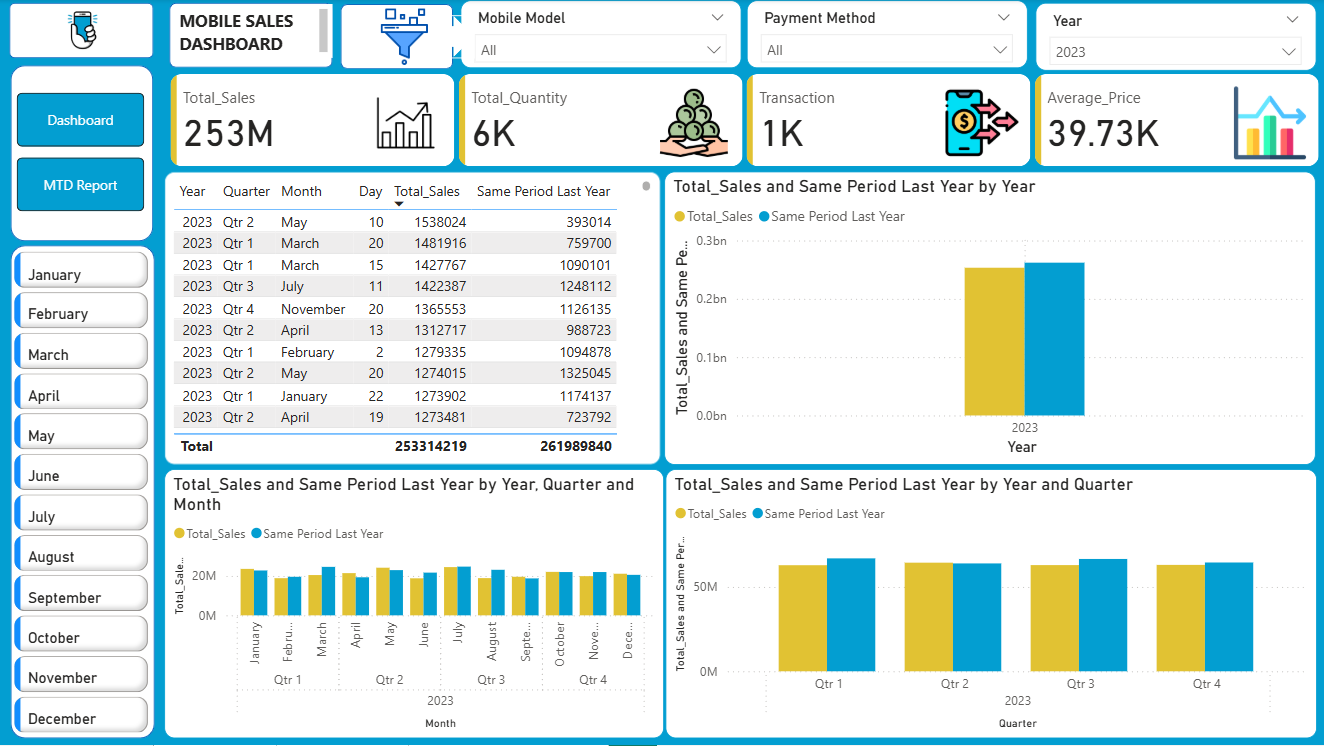

Layout of this report page (visuals, bound fields, positions):
{"tool":"powerbi","page":{"name":"Dashboard","canvas":[1280,720],"ordinal":0},"visuals":[{"type":"shape","box":[10.1,10.1,139.9,51.9],"z":0},{"type":"image","box":[11.3,3.8,137.2,65.4],"z":1000},{"type":"textbox","box":[150,76.8,300,150],"z":2000},{"type":"shape","box":[12.2,67.4,137.8,159.2],"z":3000},{"type":"shape","box":[10.1,232.3,139.9,479],"z":4000},{"type":"advancedSlicerVisual","fields":{"Values":["Custom_Calender.Date.Variation.Date Hierarchy.Month"]},"box":[10.1,235.2,139.9,479],"z":5000},{"type":"cardVisual","fields":{"Data":["Mobile_Sales_Data.Total_Sales","Mobile_Sales_Data.Total_Quantity","Mobile_Sales_Data.Transaction","Mobile_Sales_Data.Average_Price"]},"box":[161.1,67.5,1118.6,99.7],"z":6000},{"type":"slicer","fields":{"Values":["Mobile_Sales_Data.Mobile Model"]},"box":[447,1.5,270.9,65.8],"z":7000},{"type":"slicer","fields":{"Values":["Mobile_Sales_Data.Payment Method"]},"box":[722.5,1.5,270.9,65.8],"z":8000},{"type":"slicer","fields":{"Values":["Mobile_Sales_Data.Brand"]},"box":[1001.1,3.1,270.9,65.8],"z":9000},{"type":"shape","box":[330.6,4.6,108.7,62.8],"z":10000},{"type":"image","box":[338.3,3.1,108.7,65.8],"z":11000},{"type":"shape","box":[416.4,15.3,44.4,41.3],"z":12000},{"type":"shape","box":[165.3,3.1,157.7,62.8],"z":13000},{"type":"textbox","box":[169.9,4.6,153.1,52],"z":14000},{"type":"map","fields":{"Category":["Mobile_Sales_Data.City"],"Size":["Mobile_Sales_Data.Total_Sales"]},"box":[165.3,166.9,281.7,353.6],"z":15000},{"type":"lineChart","fields":{"Y":["Mobile_Sales_Data.Total_Quantity"],"Category":["Custom_Calender.Date.Variation.Date Hierarchy.Month"]},"box":[453.1,166.9,819,166.9],"z":16000},{"type":"funnel","fields":{"Y":["CountNonNull(Mobile_Sales_Data.Customer Ratings)"],"Category":["Mobile_Sales_Data.Rating Status"]},"box":[453.1,338.3,405.7,182.2],"z":17000},{"type":"pieChart","fields":{"Y":["Mobile_Sales_Data.Transaction"],"Category":["Mobile_Sales_Data.Payment Method"]},"box":[862.1,338.6,409,182.5],"z":18000},{"type":"clusteredBarChart","fields":{"Y":["Mobile_Sales_Data.Total_Sales"],"Category":["Mobile_Sales_Data.Mobile Model"]},"box":[451.6,532.7,405.7,182.2],"z":19000},{"type":"areaChart","fields":{"Y":["Mobile_Sales_Data.Total_Sales"],"Category":["Custom_Calender.Day Name"]},"box":[865.9,531.1,406.5,182.5],"z":20000},{"type":"tableEx","fields":{"Values":["Mobile_Sales_Data.Brand","Mobile_Sales_Data.Total_Sales","Mobile_Sales_Data.Transaction"]},"box":[165.3,534.2,281.7,177.6],"z":21000},{"type":"pageNavigator","box":[18.4,90.3,124,114.8],"z":21001}]}

Visuals, with their boxes in screenshot pixels (x1, y1, x2, y2), scaled from the page's 1280x720 canvas onto the 1324x746 screenshot:
shape: select_region(10, 10, 155, 64)
image: select_region(12, 4, 154, 72)
textbox: select_region(155, 80, 465, 235)
shape: select_region(13, 70, 155, 235)
shape: select_region(10, 241, 155, 737)
advancedSlicerVisual - Custom_Calender.Date.Variation.Date Hierarchy.Month: select_region(10, 244, 155, 740)
cardVisual - Mobile_Sales_Data.Total_Sales x Mobile_Sales_Data.Total_Quantity: select_region(167, 70, 1323, 173)
slicer - Mobile_Sales_Data.Mobile Model: select_region(462, 2, 743, 70)
slicer - Mobile_Sales_Data.Payment Method: select_region(747, 2, 1028, 70)
slicer - Mobile_Sales_Data.Brand: select_region(1036, 3, 1316, 71)
shape: select_region(342, 5, 454, 70)
image: select_region(350, 3, 462, 71)
shape: select_region(431, 16, 477, 59)
shape: select_region(171, 3, 334, 68)
textbox: select_region(176, 5, 334, 59)
map - Mobile_Sales_Data.City x Mobile_Sales_Data.Total_Sales: select_region(171, 173, 462, 539)
lineChart - Mobile_Sales_Data.Total_Quantity x Custom_Calender.Date.Variation.Date Hierarchy.Month: select_region(469, 173, 1316, 346)
funnel - CountNonNull(Mobile_Sales_Data.Customer Ratings) x Mobile_Sales_Data.Rating Status: select_region(469, 351, 888, 539)
pieChart - Mobile_Sales_Data.Transaction x Mobile_Sales_Data.Payment Method: select_region(892, 351, 1315, 540)
clusteredBarChart - Mobile_Sales_Data.Total_Sales x Mobile_Sales_Data.Mobile Model: select_region(467, 552, 887, 741)
areaChart - Mobile_Sales_Data.Total_Sales x Custom_Calender.Day Name: select_region(896, 550, 1316, 739)
tableEx - Mobile_Sales_Data.Brand x Mobile_Sales_Data.Total_Sales: select_region(171, 553, 462, 738)
pageNavigator: select_region(19, 94, 147, 213)
